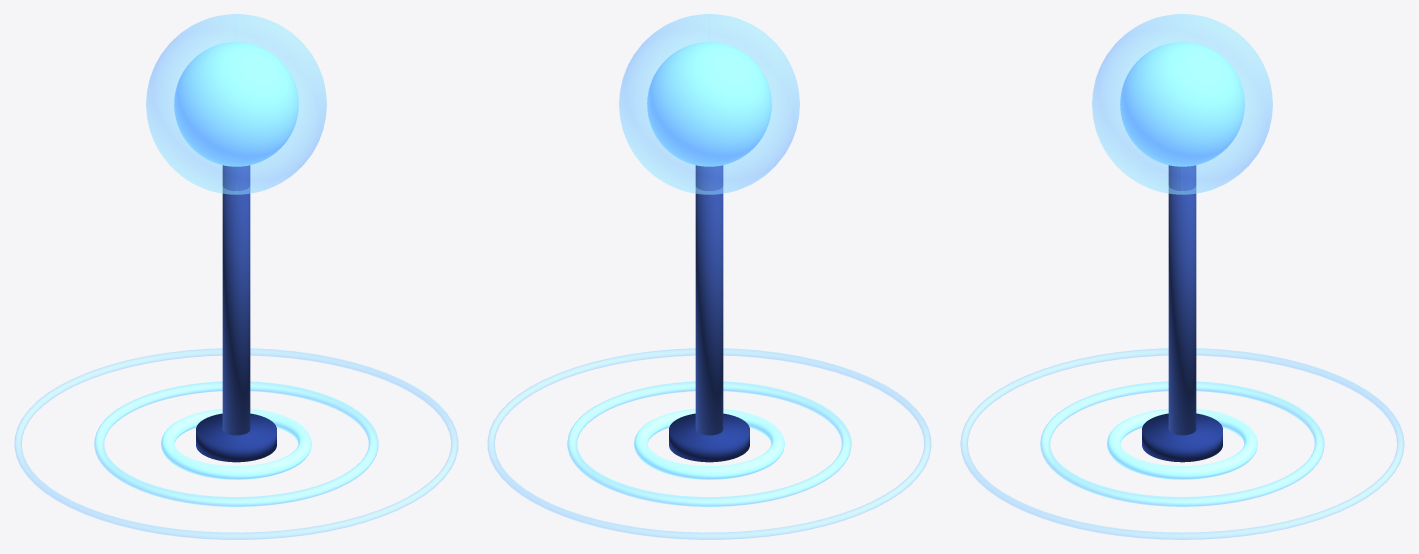
Rendered from map-pin-blue.glb.
The picture shows the model from 3 angles, left to right: view 1: azimuth 30°, elevation 25°; view 2: azimuth 150°, elevation 25°; view 3: azimuth 270°, elevation 25°; orthographic projection.
Visible parts, largest first — view 1: Glow, Cap, Pulse2, Column, Pulse1, Pulse0, Base; view 2: Glow, Cap, Pulse2, Column, Pulse1, Pulse0, Base; view 3: Glow, Cap, Pulse2, Column, Pulse1, Pulse0, Base.
Part boxes in pixels (box(x1,y1,x2,y2)): Glow: box(146, 14, 326, 194); Cap: box(174, 42, 298, 166); Pulse2: box(14, 348, 458, 539); Column: box(222, 165, 250, 435); Pulse1: box(94, 381, 378, 506); Pulse0: box(161, 408, 311, 479); Base: box(196, 413, 276, 462); Glow: box(619, 14, 799, 194); Cap: box(647, 42, 771, 166); Pulse2: box(487, 348, 931, 539); Column: box(695, 165, 723, 435); Pulse1: box(567, 381, 851, 506); Pulse0: box(634, 408, 784, 479); Base: box(669, 413, 749, 462); Glow: box(1092, 14, 1272, 194); Cap: box(1120, 42, 1244, 166); Pulse2: box(960, 348, 1404, 539); Column: box(1168, 165, 1196, 435); Pulse1: box(1040, 381, 1324, 506); Pulse0: box(1107, 408, 1257, 479); Base: box(1142, 413, 1222, 462).
Bounding box in the file's own units: 1.42 × 1.51 × 1.42.
